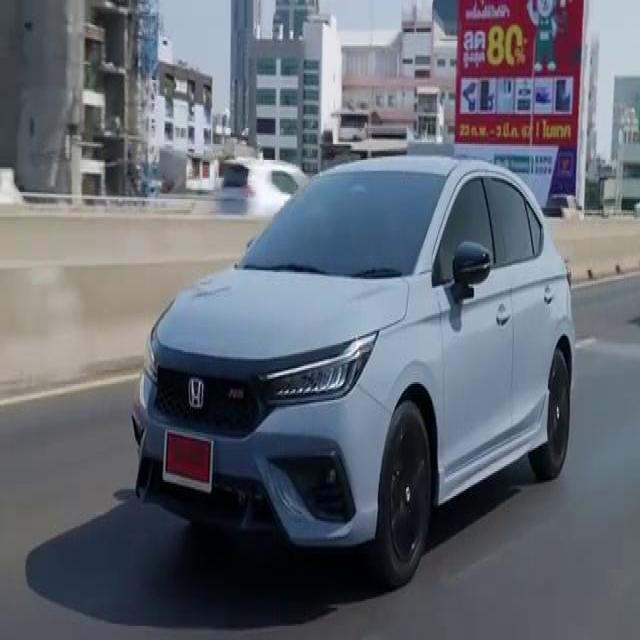Hatchback: (132, 156, 574, 587)
